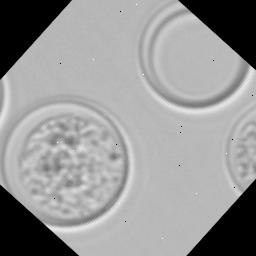picoshell: (4, 96, 136, 232), (137, 0, 255, 115), (223, 100, 256, 196)
